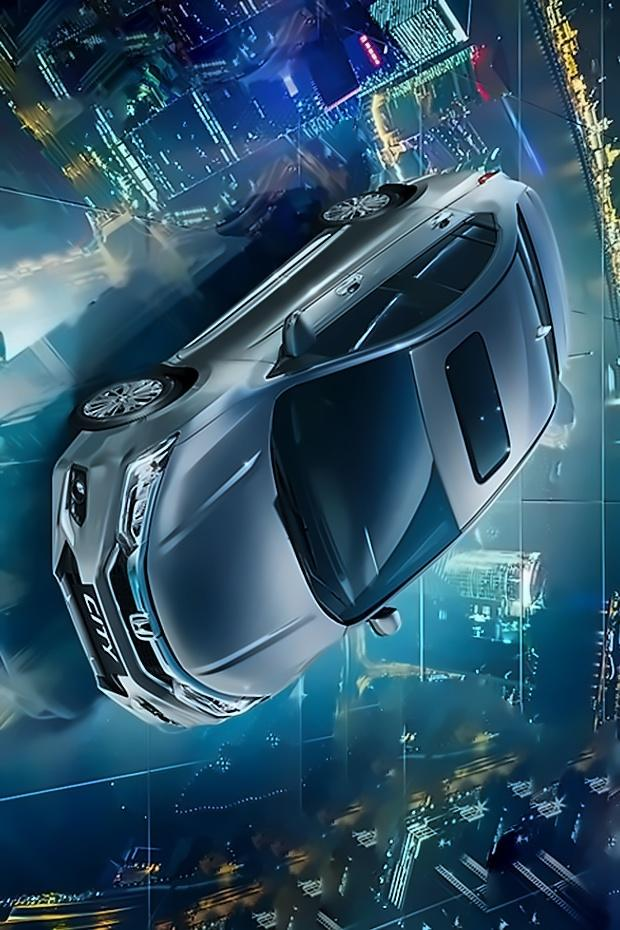Car boot: (491, 160, 579, 408)
Car hood: (144, 382, 347, 699)
Driver-s door - -F-R-: (160, 265, 464, 384)
Fender - -R-L-: (407, 160, 511, 225)
Front bumper: (43, 413, 219, 778)
Headlight - -L-: (169, 682, 262, 719)
Headlight - -R-: (116, 428, 183, 560)
Passenger-s door - -R-R-: (284, 205, 525, 303)
Side bumper - -R-: (149, 221, 455, 373)
Side mirror - -L-: (369, 606, 403, 640)
Side mirror - -R-: (283, 310, 316, 364)
